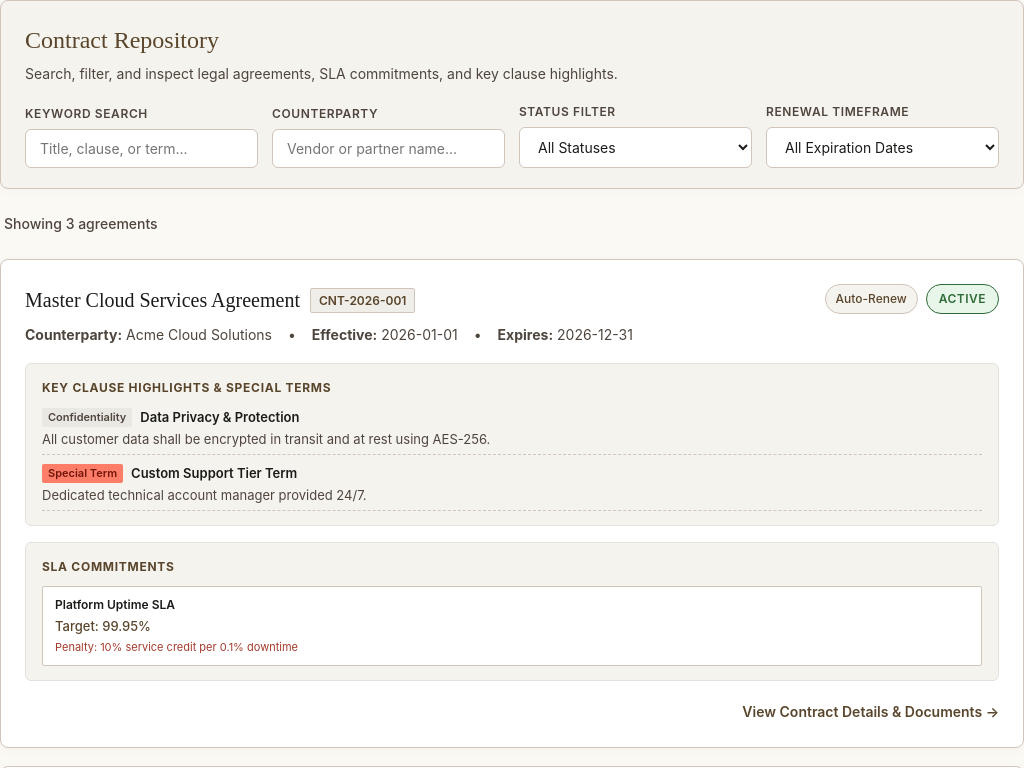
Test: ContractList Component › resets all active filters when Clear Filters button is clicked
Type "Master" into the field with test id "search-input" at x=142, y=148, box [25, 129, 258, 168]
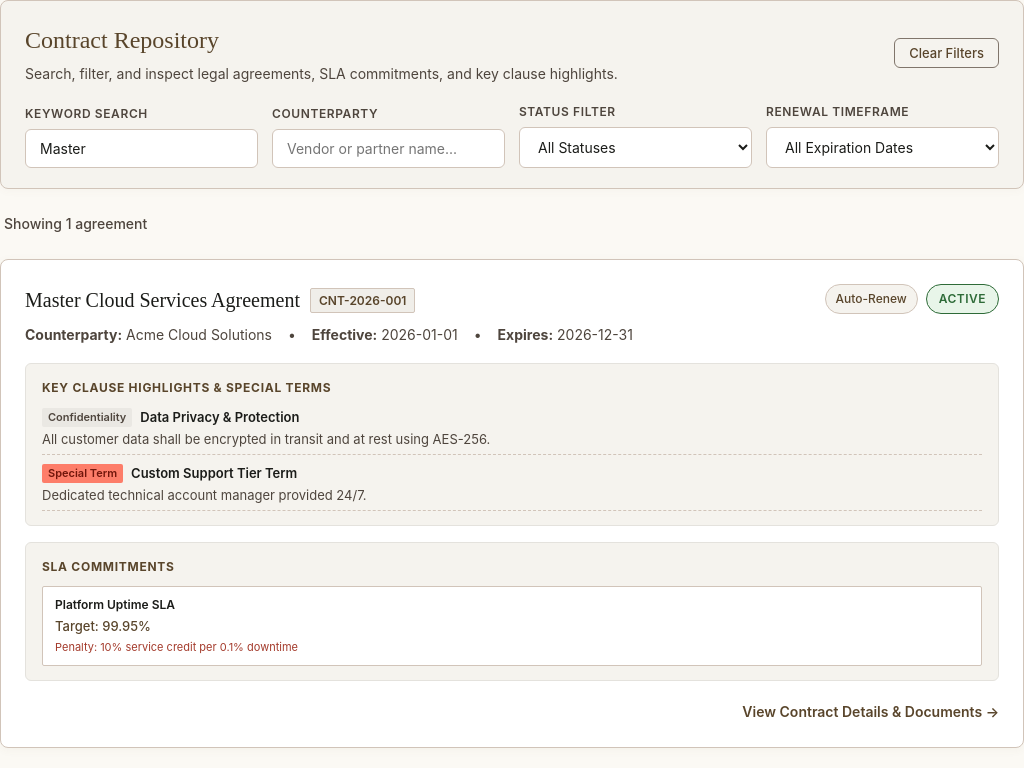
Select "Active" in the dropdown with test id "status-filter" at x=636, y=148, box [519, 127, 752, 168]
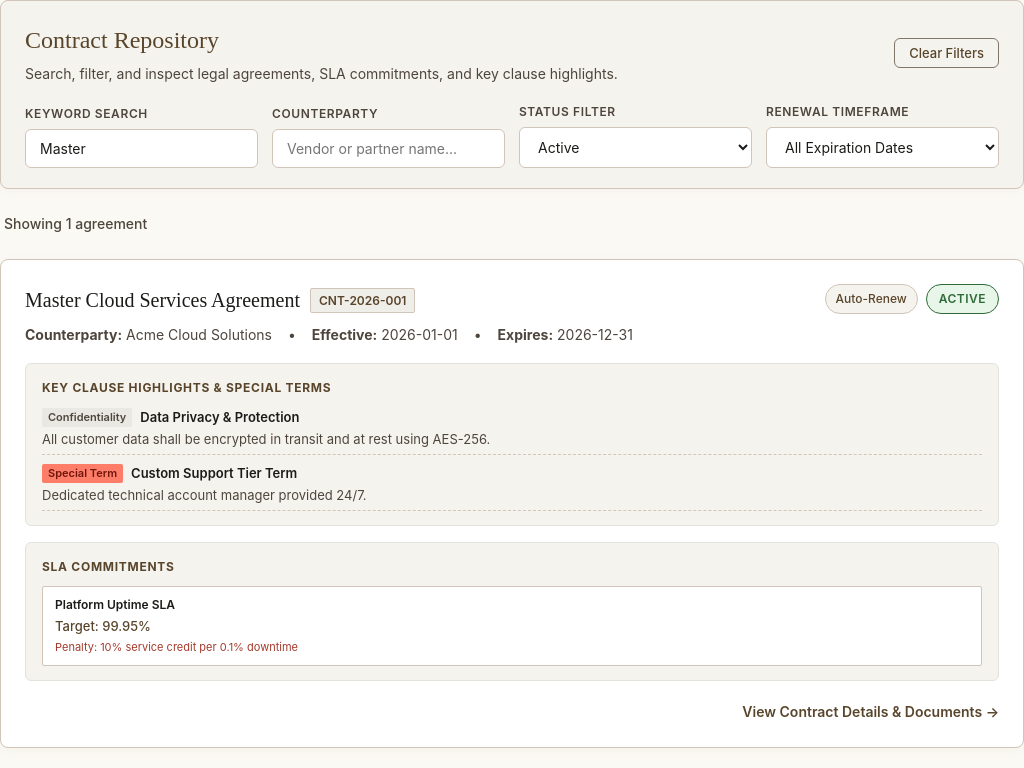
Result: the text with test id "results-count" reads "Showing 1 agreement" at [4, 215, 147, 232]
Click the button with test id "clear-filters" at x=947, y=53, box [894, 38, 999, 68]
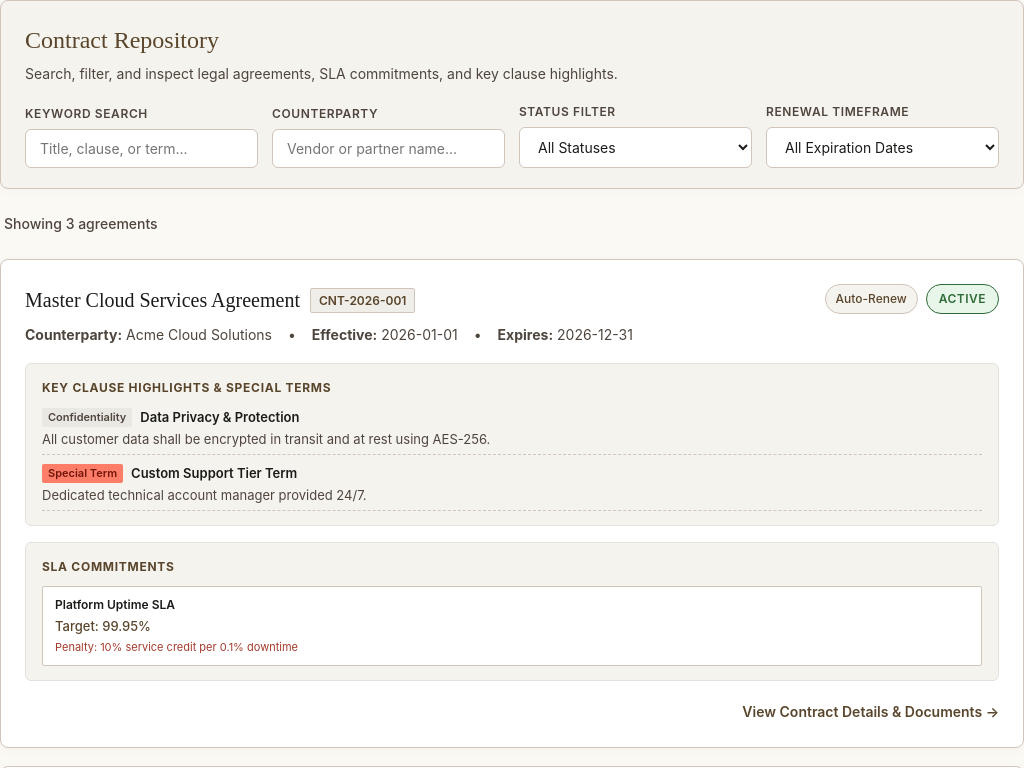
Result: the text with test id "results-count" reads "Showing 3 agreements" at [4, 215, 158, 232]
Result: the field with test id "search-input" is empty at [25, 129, 258, 168]
